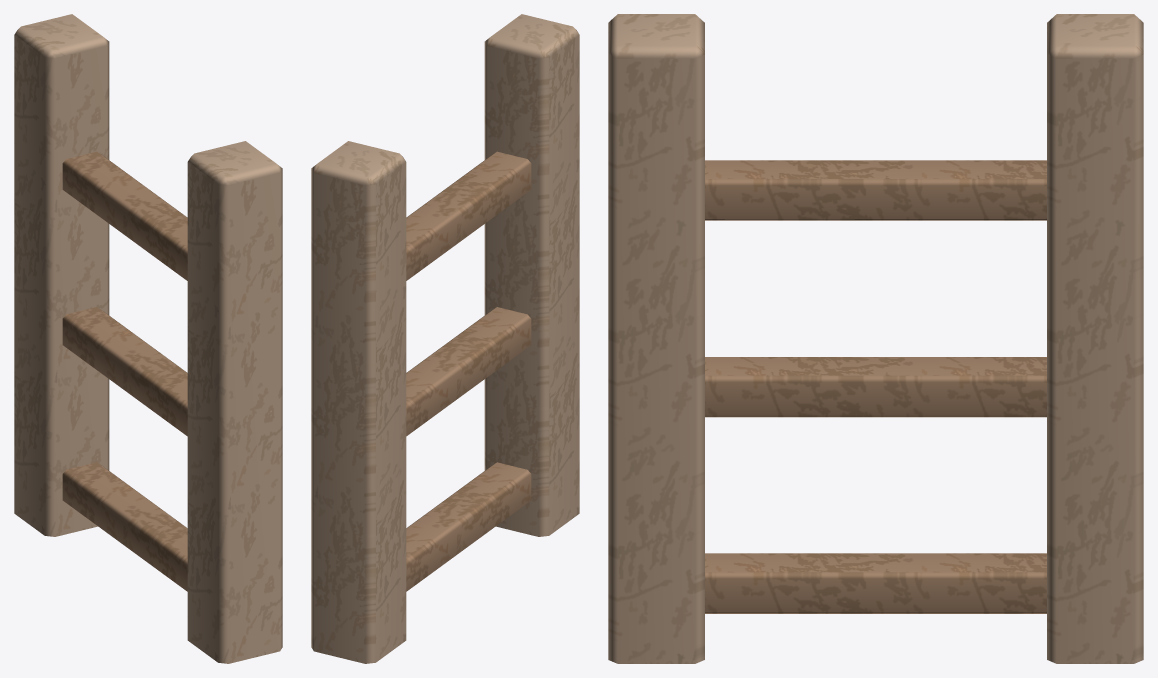
File: fenceEnd.fbx
The picture shows the model from 3 angles, left to right: view 1: azimuth 30°, elevation 25°; view 2: azimuth 150°, elevation 25°; view 3: azimuth 270°, elevation 25°; orthographic projection. The views are drawn at different scales.
Parts seen in each view (by area): view 1: pCube82; view 2: pCube82; view 3: pCube82.
Boxes of the visible parts, x1,y1,x2,y2 form: pCube82: [14, 14, 282, 663]; pCube82: [311, 14, 579, 663]; pCube82: [608, 14, 1143, 663].
Bounding box in the file's own units: 17.64 × 127 × 100.
